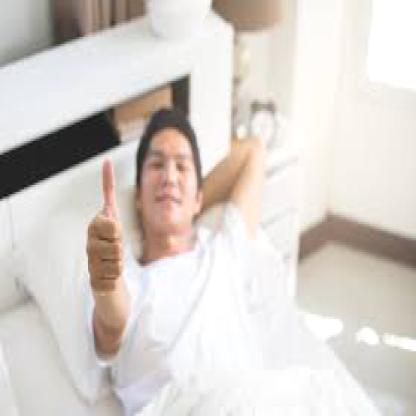Thumbs up: (89, 154, 123, 290)
